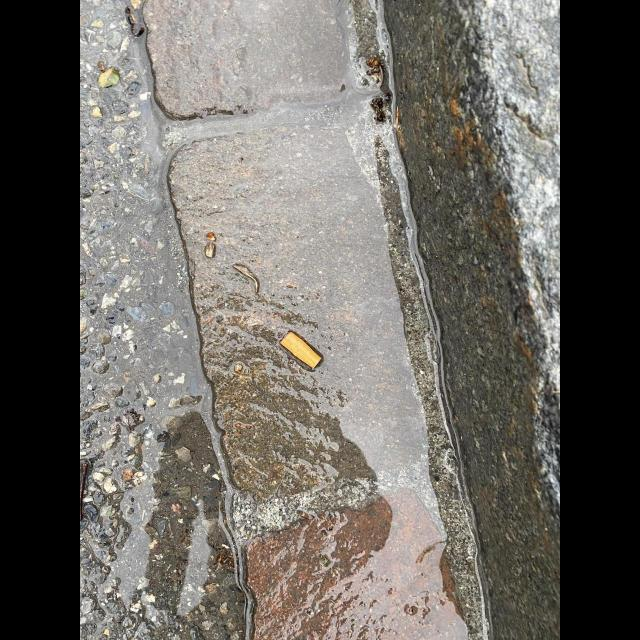cigarette: (279, 329, 322, 368)
